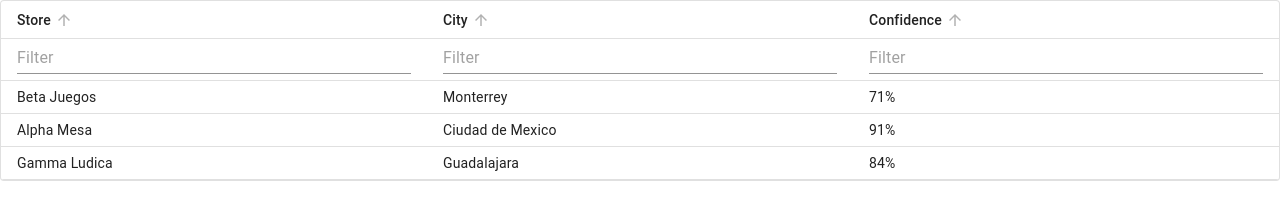
Test: DataTable › sorts rows by column headers
The image size is (1280, 198).
Click the button "Store". click: click(47, 20)
box: top-left (17, 8), bottom-right (77, 32)
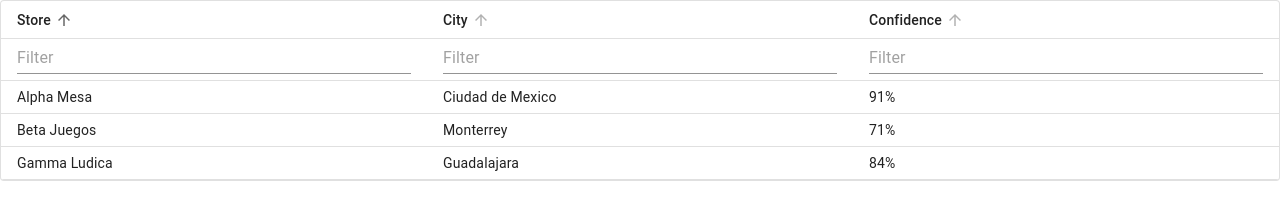
Check: the elements with test id "store-name" read "Alpha Mesa", "Beta Juegos", "Gamma Ludica", in this order, box top-left (17, 89), bottom-right (92, 105); top-left (17, 122), bottom-right (96, 138); top-left (17, 155), bottom-right (113, 171)
Click the button "Store". click: click(47, 20)
box: top-left (17, 8), bottom-right (77, 32)
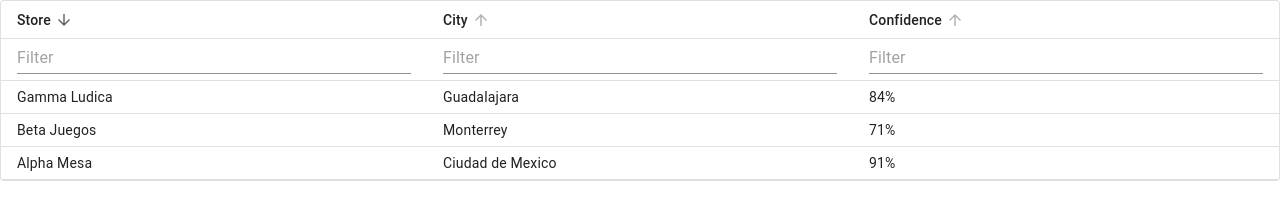
Check: the elements with test id "store-name" read "Gamma Ludica", "Beta Juegos", "Alpha Mesa", in this order, box top-left (17, 89), bottom-right (113, 105); top-left (17, 122), bottom-right (96, 138); top-left (17, 155), bottom-right (92, 171)
